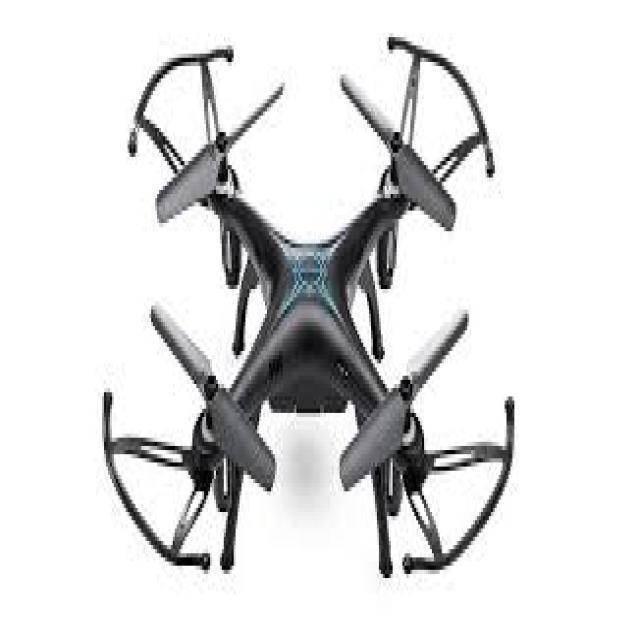drone: (94, 0, 527, 640)
